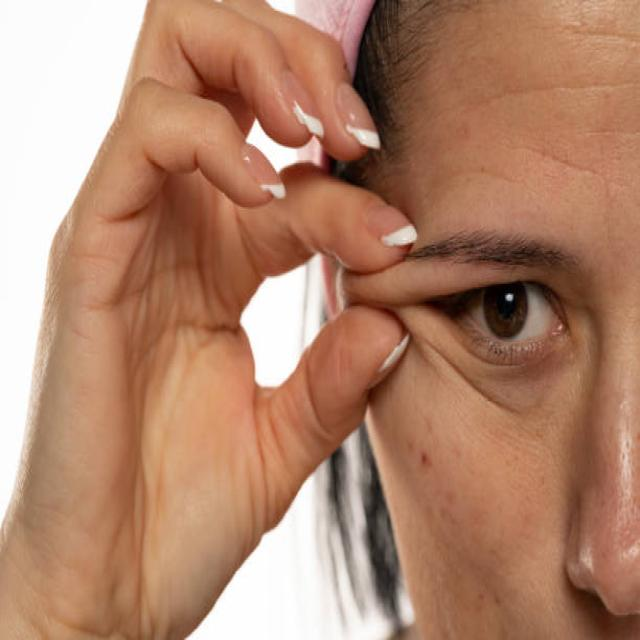Dry-Skin: (398, 372, 571, 621), (453, 5, 626, 221)
